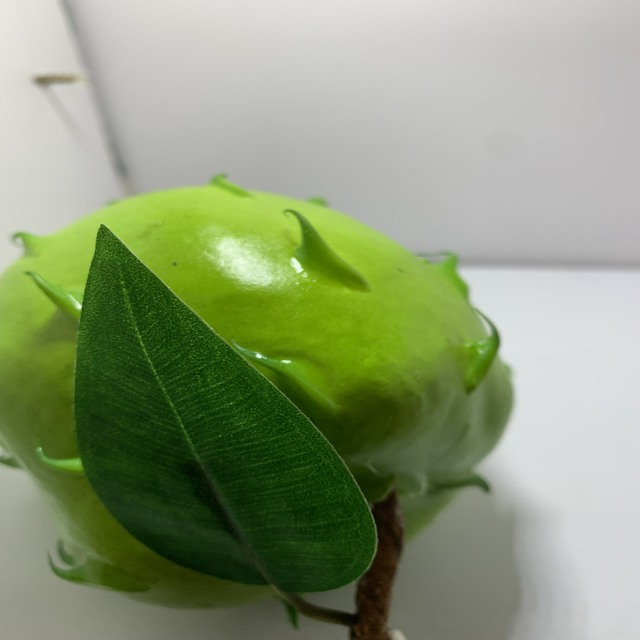Man cau: (0, 175, 528, 622)
